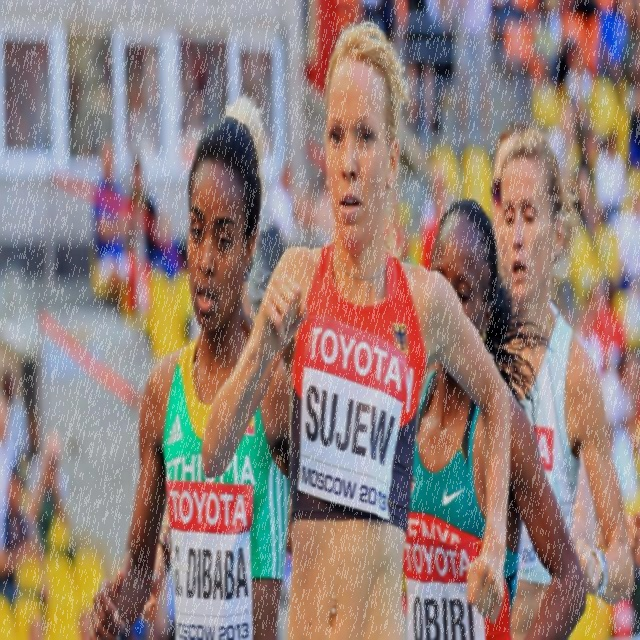pessoa: (193, 10, 518, 640), (84, 111, 293, 638), (251, 0, 639, 280), (120, 113, 290, 640), (401, 195, 588, 640), (497, 126, 632, 640), (483, 118, 613, 640), (541, 278, 640, 640), (0, 345, 45, 639), (92, 134, 136, 326), (121, 147, 172, 303), (44, 431, 96, 572), (126, 601, 160, 640), (160, 561, 176, 640)
